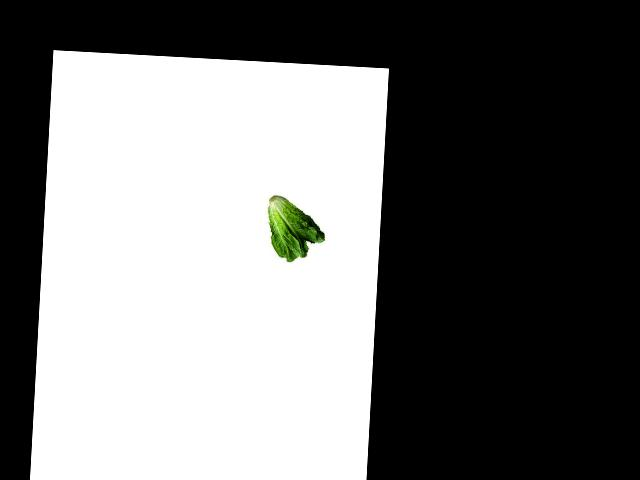lettuce: (259, 190, 329, 263)
